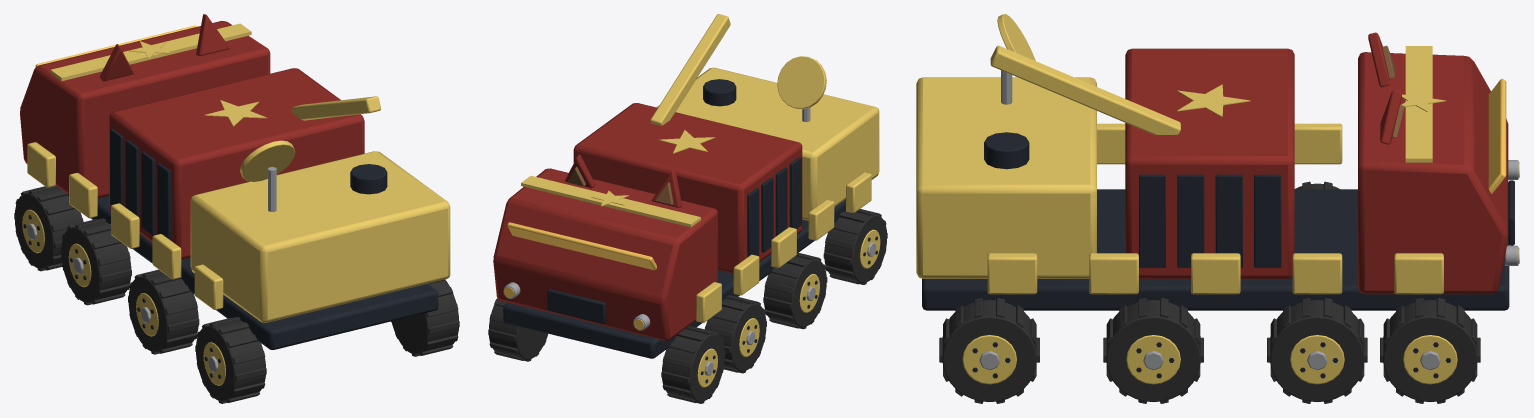
Rendered from baeren_hoehlenmobil.glb.
3 views of the same model, side by side, from view 1: azimuth 30°, elevation 25°; view 2: azimuth 150°, elevation 25°; view 3: azimuth 270°, elevation 25° (orthographic). The views are drawn at different scales.
Parts seen in each view (by area): view 1: module_b, module_a, cab, frame, wheel_-1_1, wheel_-1_2, wheel_-1_3, wheel_-1_0, wheel_1_1, cab_roof_stripe, dish, crane_arm (+19 smaller); view 2: cab, module_a, module_b, frame, wheel_-1_0, wheel_-1_1, wheel_-1_2, crane_arm, cab_roof_stripe, dish, cab_window, wheel_-1_3 (+19 smaller); view 3: module_b, cab, module_a, frame, wheel_1_2, wheel_1_0, wheel_1_1, wheel_1_3, crane_arm, cab_roof_stripe, panel_3, panel_0 (+19 smaller).
Part boxes in pixels (left/top/right/bottom): module_b: left=190, top=151, right=450, bottom=322; module_a: left=109, top=68, right=364, bottom=259; cab: left=20, top=21, right=270, bottom=198; frame: left=68, top=194, right=438, bottom=349; wheel_-1_1: left=196, top=320, right=265, bottom=401; wheel_-1_2: left=128, top=273, right=198, bottom=352; wheel_-1_3: left=61, top=221, right=131, bottom=303; wheel_-1_0: left=14, top=188, right=81, bottom=269; wheel_1_1: left=391, top=280, right=458, bottom=354; cab_roof_stripe: left=50, top=23, right=251, bottom=80; dish: left=240, top=140, right=295, bottom=181; crane_arm: left=291, top=96, right=380, bottom=120; cab: left=493, top=168, right=717, bottom=340; module_a: left=573, top=103, right=802, bottom=273; module_b: left=656, top=67, right=879, bottom=220; frame: left=503, top=199, right=845, bottom=358; wheel_-1_0: left=662, top=329, right=724, bottom=401; wheel_-1_1: left=824, top=211, right=887, bottom=283; wheel_-1_2: left=764, top=256, right=826, bottom=327; crane_arm: left=650, top=14, right=730, bottom=125; cab_roof_stripe: left=521, top=175, right=700, bottom=227; dish: left=777, top=56, right=826, bottom=109; cab_window: left=507, top=222, right=656, bottom=270; wheel_-1_3: left=706, top=298, right=766, bottom=371; module_b: left=916, top=77, right=1096, bottom=278; cab: left=1358, top=52, right=1508, bottom=294; module_a: left=1125, top=48, right=1294, bottom=278; frame: left=922, top=189, right=1509, bottom=310; wheel_1_2: left=1106, top=300, right=1200, bottom=401; wheel_1_0: left=1383, top=300, right=1477, bottom=401; wheel_1_1: left=942, top=300, right=1036, bottom=401; wheel_1_3: left=1270, top=300, right=1364, bottom=401; crane_arm: left=990, top=45, right=1180, bottom=134; cab_roof_stripe: left=1405, top=46, right=1432, bottom=162; panel_3: left=1254, top=174, right=1281, bottom=267; panel_0: left=1139, top=174, right=1165, bottom=267.
Bounding box in the file's own units: 1.94 × 2.1 × 3.6.
